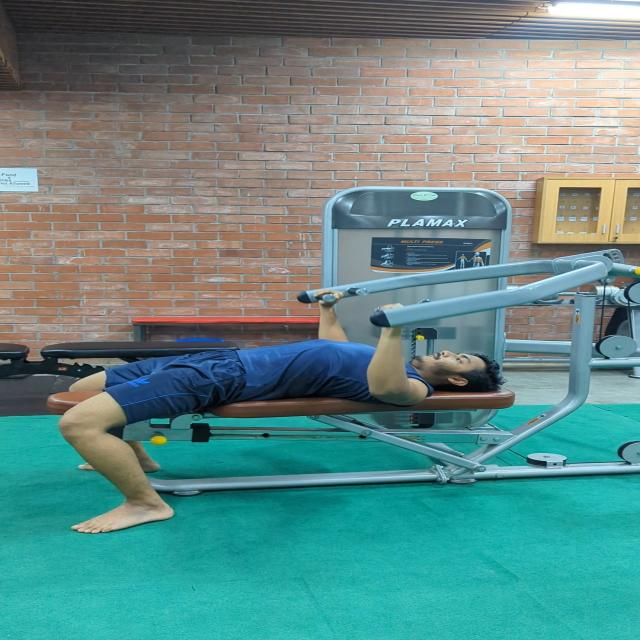Normal_BrenchPress: (53, 274, 520, 544)
